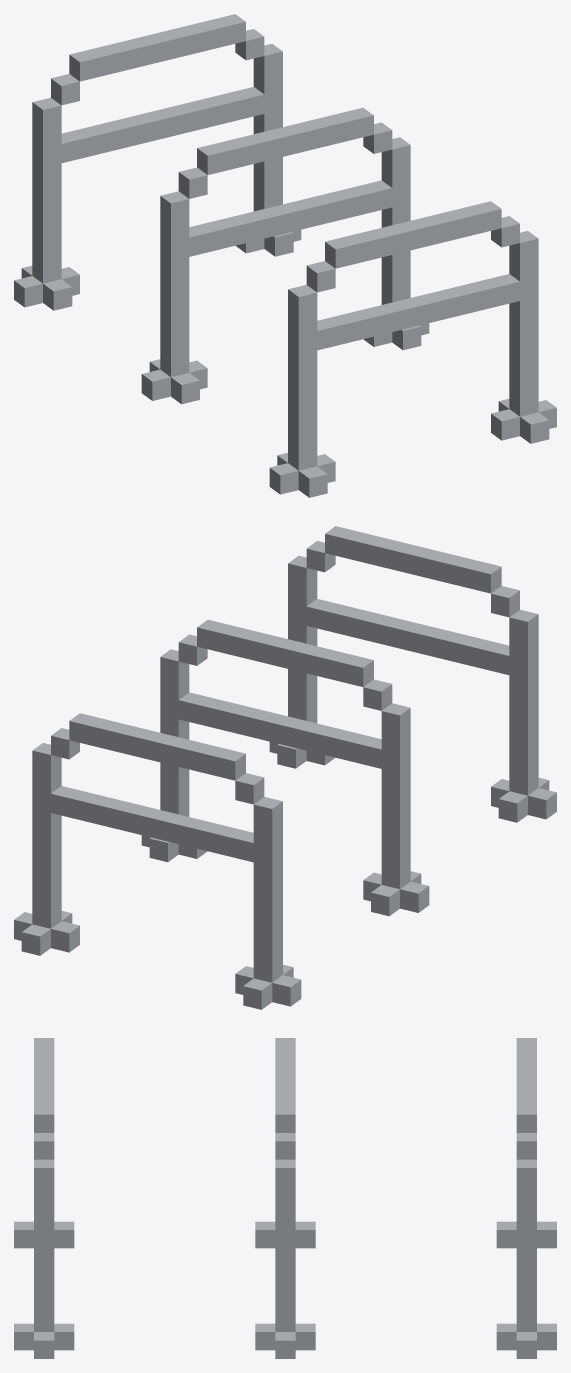
The model's file is 3D Voxel Park-75.obj.
The picture shows the model from 3 angles, top to bottom: view 1: azimuth 30°, elevation 25°; view 2: azimuth 150°, elevation 25°; view 3: azimuth 270°, elevation 25°; orthographic projection. The views are drawn at different scales.
Size of the model in its own units: 1.5 by 1.2 by 2.7.
1 material, 1 textured.
